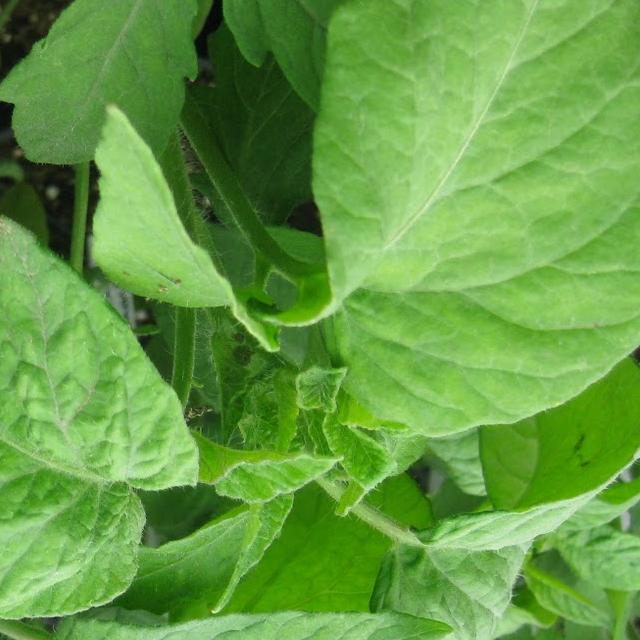Tomato leaf: (0, 607, 443, 640)
